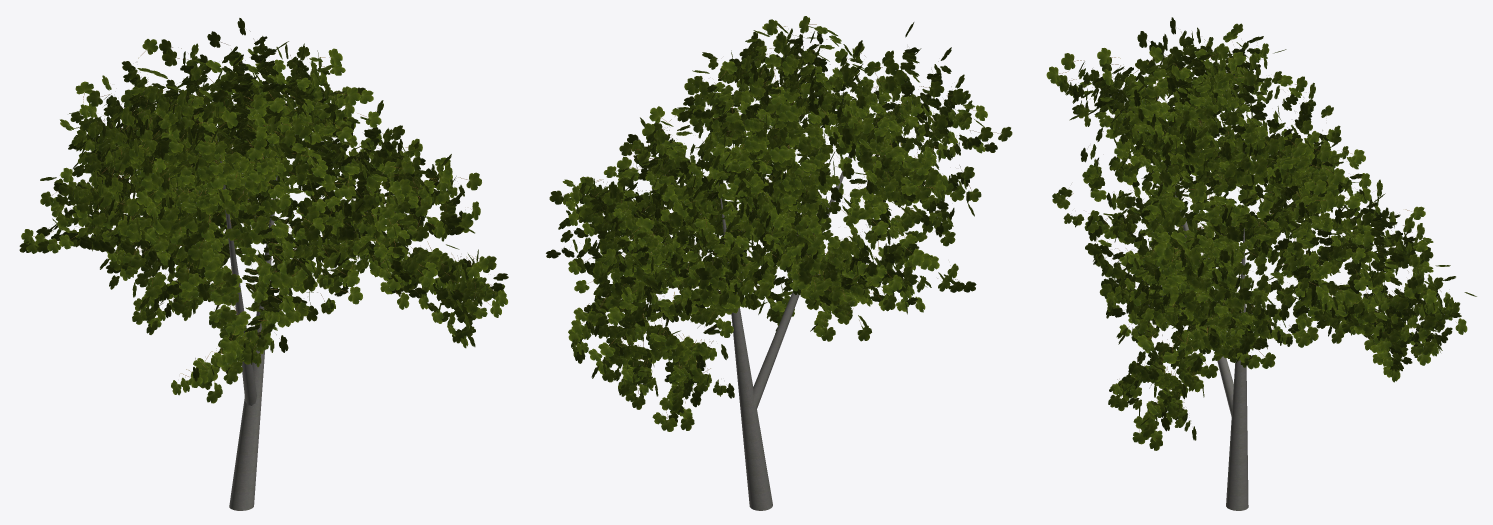
Rendered from tree_eu03_11_3.obj.
The picture shows the model from 3 angles, left to right: view 1: azimuth 30°, elevation 25°; view 2: azimuth 150°, elevation 25°; view 3: azimuth 270°, elevation 25°; orthographic projection. The views are drawn at different scales.
Visible parts, largest first — view 1: EU03_i11_1 Obj_foliage, Obj_branches EU03_i11_1; view 2: EU03_i11_1 Obj_foliage, Obj_branches EU03_i11_1; view 3: EU03_i11_1 Obj_foliage, Obj_branches EU03_i11_1.
Part boxes in pixels (x1=…): EU03_i11_1 Obj_foliage: x1=19, y1=18, x2=508, y2=403; Obj_branches EU03_i11_1: x1=217, y1=133, x2=277, y2=510; EU03_i11_1 Obj_foliage: x1=546, y1=16, x2=1012, y2=431; Obj_branches EU03_i11_1: x1=718, y1=87, x2=877, y2=510; EU03_i11_1 Obj_foliage: x1=1046, y1=17, x2=1476, y2=450; Obj_branches EU03_i11_1: x1=1147, y1=86, x2=1248, y2=510.
Size of the model in its own units: 2324 by 2606 by 2239.
Materials: 2 (2 with a texture image).
